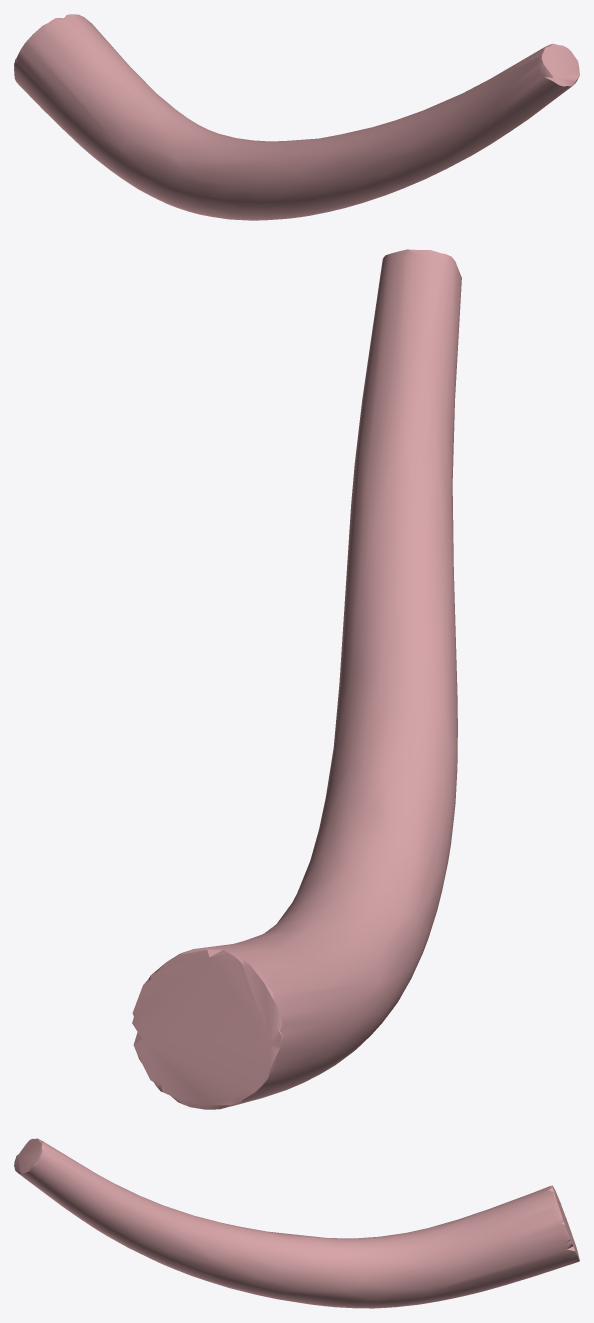
File: fma68214_fj2507.glb
The picture shows the model from 3 angles, top to bottom: view 1: azimuth 30°, elevation 25°; view 2: azimuth 150°, elevation 25°; view 3: azimuth 270°, elevation 25°; orthographic projection. The views are drawn at different scales.
Visible parts, largest first — view 1: FMA68214_FJ2507; view 2: FMA68214_FJ2507; view 3: FMA68214_FJ2507.
Part boxes in pixels (x1,y1,x2,y2): FMA68214_FJ2507: [14, 14, 579, 220]; FMA68214_FJ2507: [132, 249, 461, 1109]; FMA68214_FJ2507: [14, 1138, 579, 1308].
Bounding box in the file's own units: 0.0151 × 0.0155 × 0.0348.
